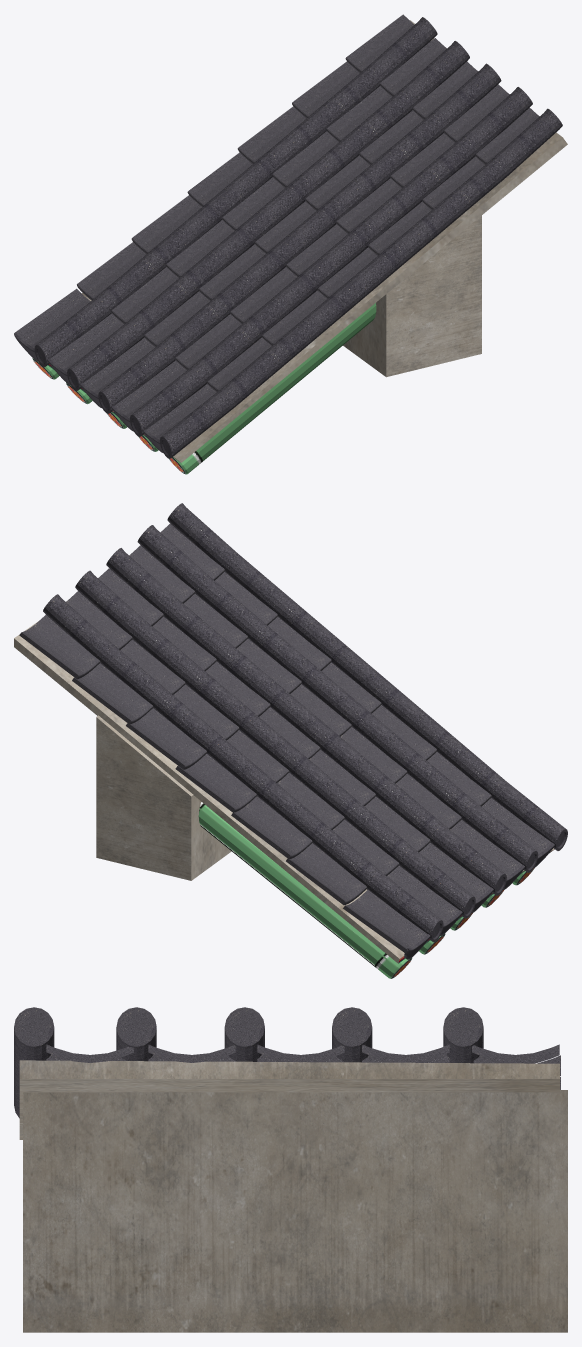
File: SM_Roof_30.fbx
3 views of the same model, one above another, from view 1: azimuth 30°, elevation 25°; view 2: azimuth 150°, elevation 25°; view 3: azimuth 270°, elevation 25° (orthographic). The views are drawn at different scales.
Visible parts, largest first — view 1: SM_Roof_30; view 2: SM_Roof_30; view 3: SM_Roof_30.
Part boxes in pixels (<box>): SM_Roof_30: <box>14,14,567,474</box>; SM_Roof_30: <box>14,503,567,978</box>; SM_Roof_30: <box>14,1007,567,1332</box>.
Bounding box in the file's own units: 299 × 209 × 205.
4 materials, 4 textured.
